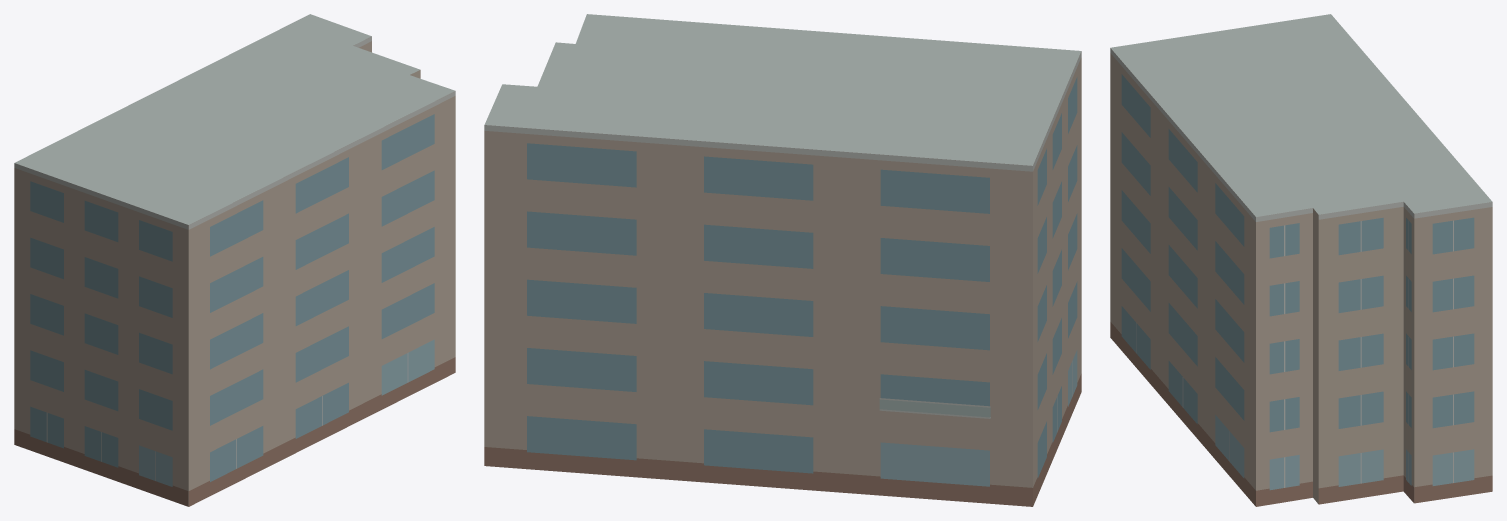
The model's file is survey-upis-32973664.glb.
The picture shows the model from 3 angles, left to right: view 1: azimuth 30°, elevation 25°; view 2: azimuth 150°, elevation 25°; view 3: azimuth 270°, elevation 25°; orthographic projection. The views are drawn at different scales.
Parts seen in each view (by area): view 1: survey-upis-32973664.tmp; view 2: survey-upis-32973664.tmp; view 3: survey-upis-32973664.tmp.
Boxes of the visible parts, left/top/right/bottom form: survey-upis-32973664.tmp: left=14, top=14, right=455, bottom=506; survey-upis-32973664.tmp: left=484, top=14, right=1081, bottom=506; survey-upis-32973664.tmp: left=1110, top=14, right=1492, bottom=506.
Size of the model in its own units: 21.37 by 14.2 by 17.
